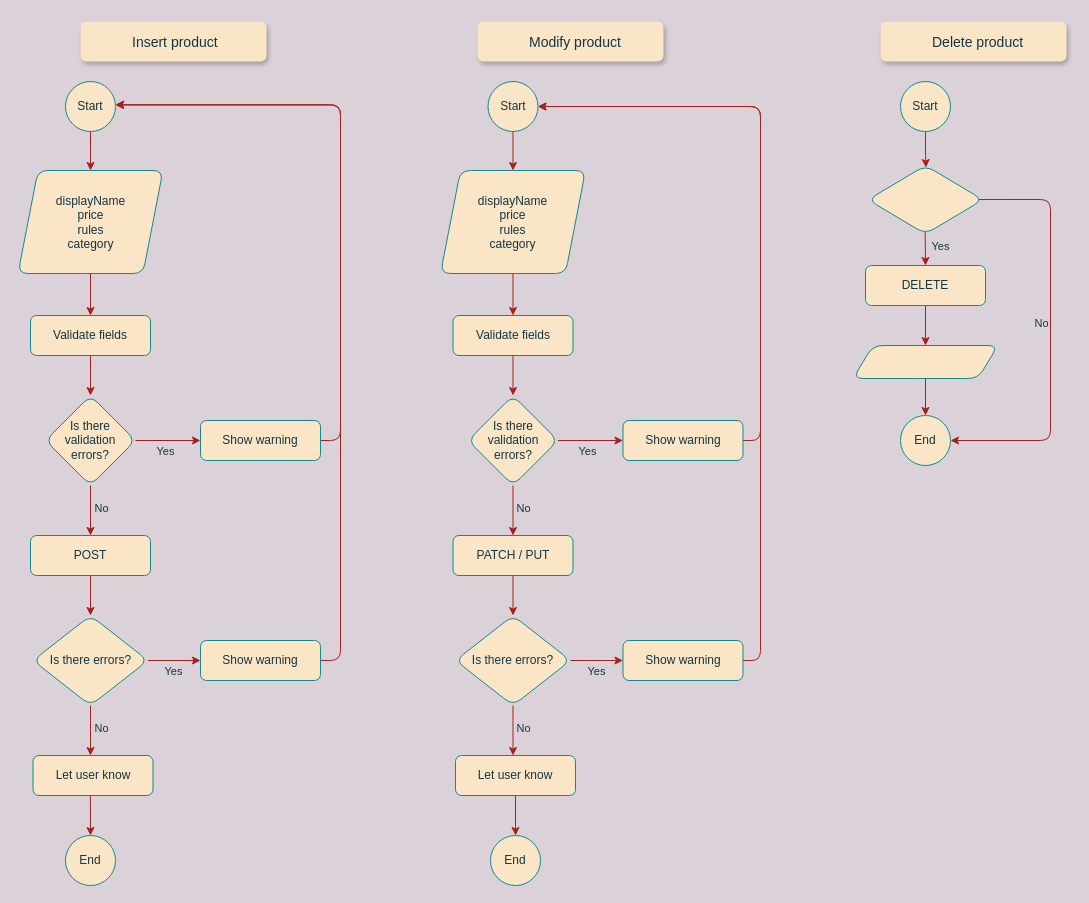
Some shapes in this 1089 by 903 pixel diagram are drawn without their labels. The centre of each missing label's shape, as x and y in pixels:
Delete product?: [925,199]
Product deleted: [925,361]
